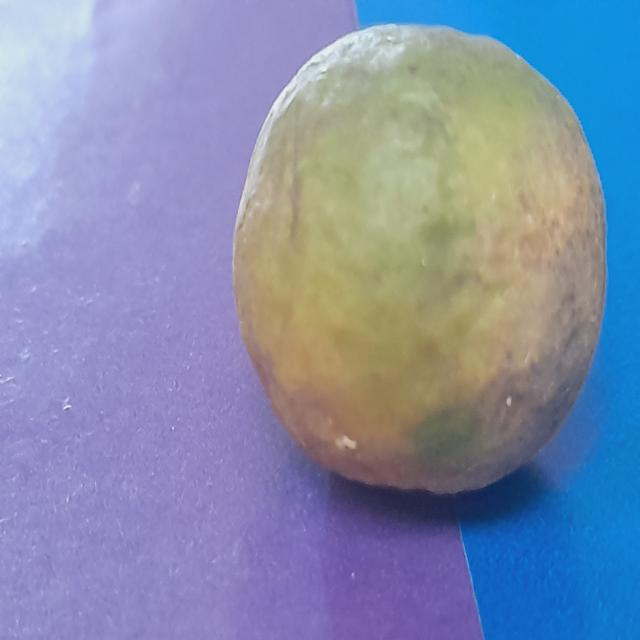thrips: (238, 30, 613, 523)
